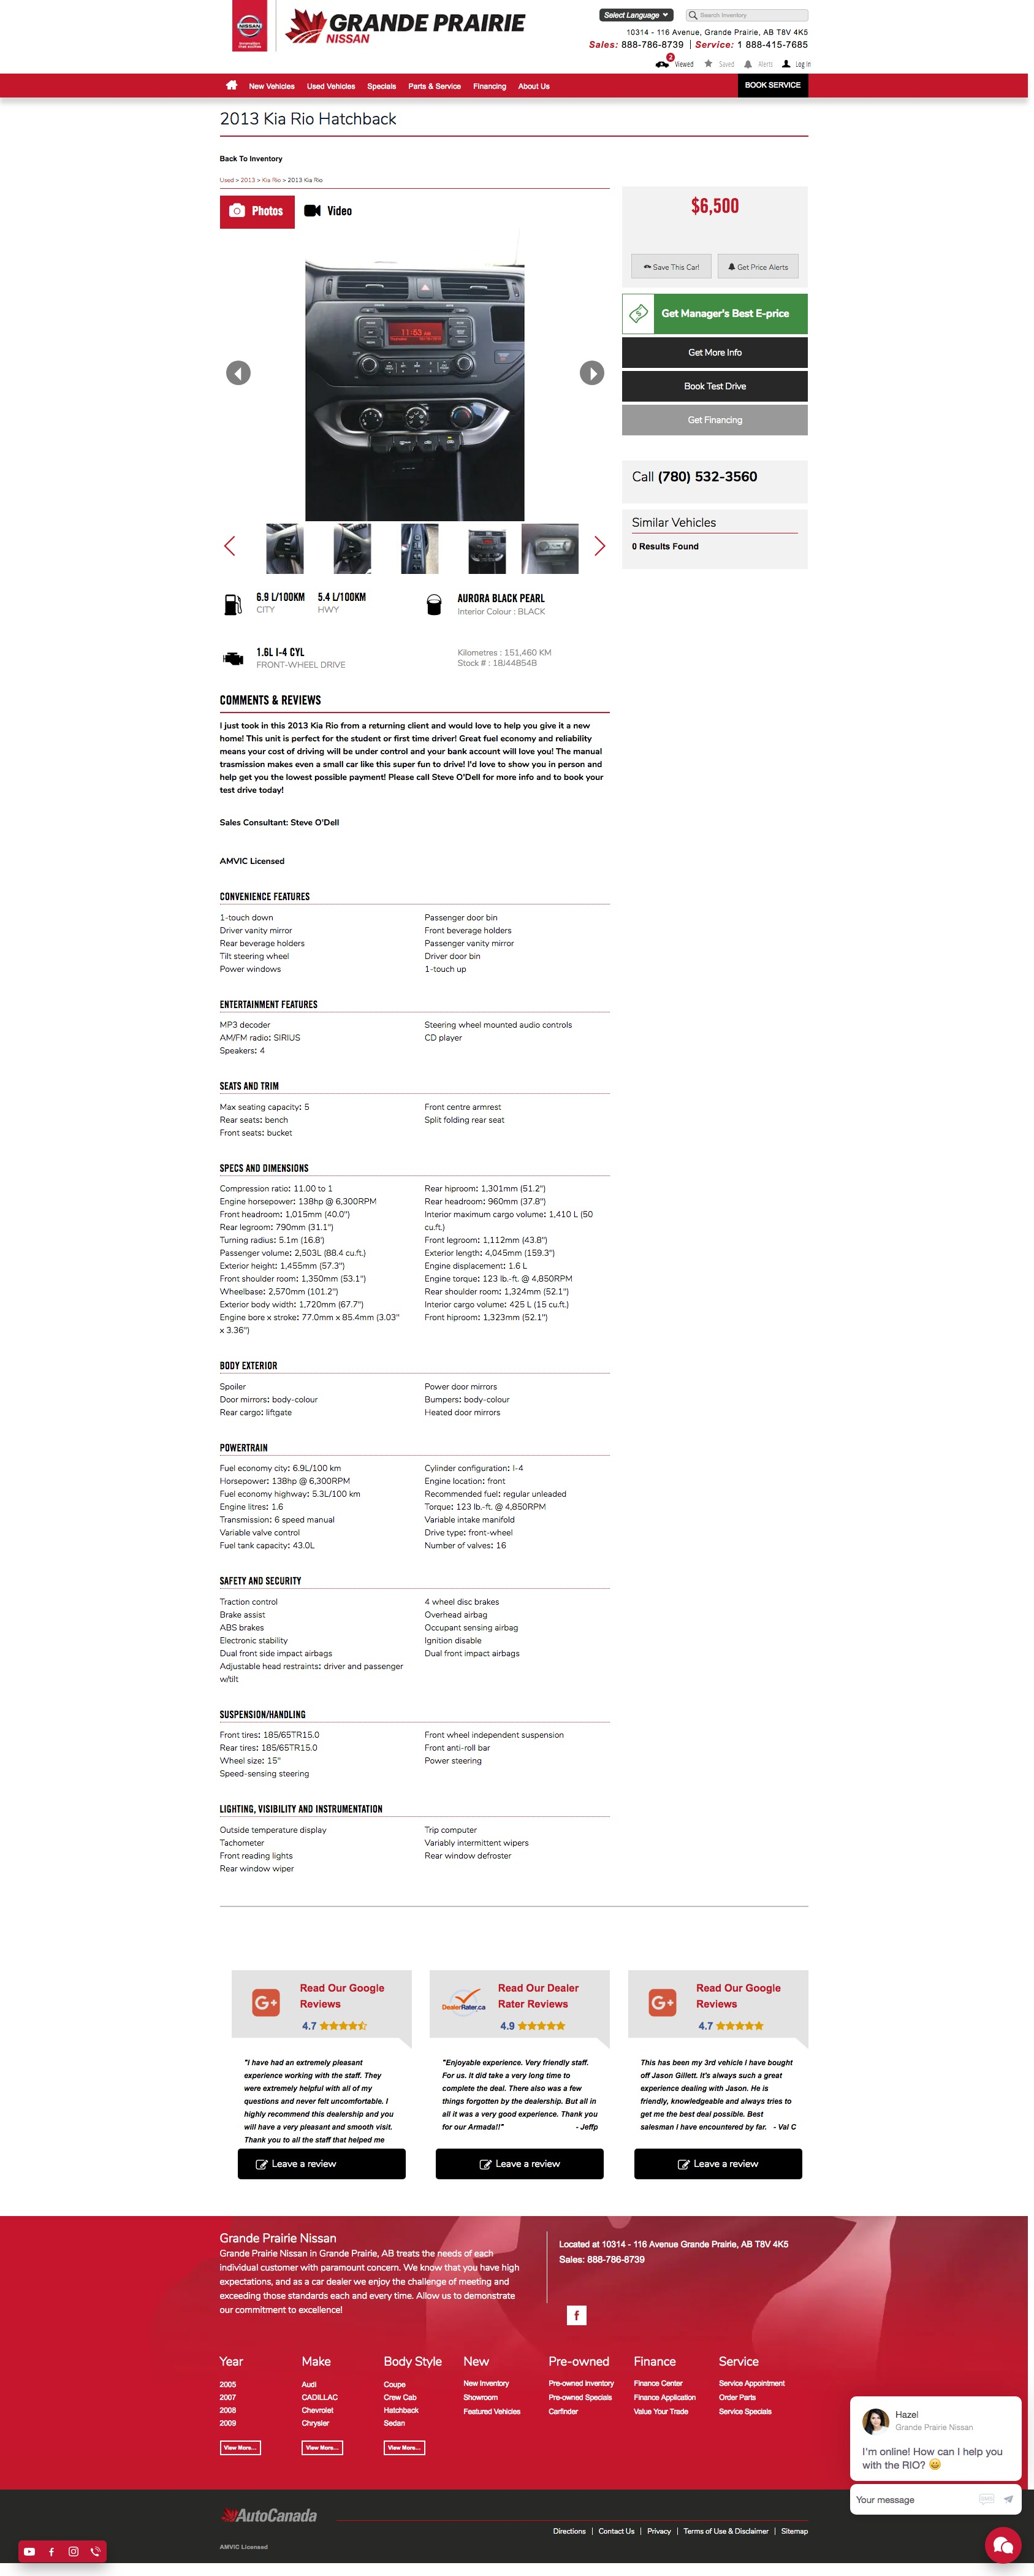car: (594, 536, 606, 557)
